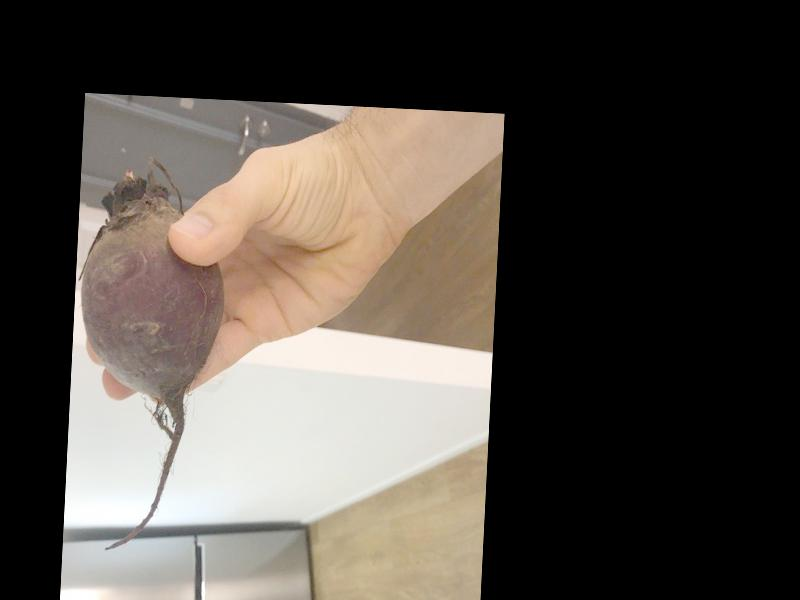Beet: (65, 155, 227, 554)
